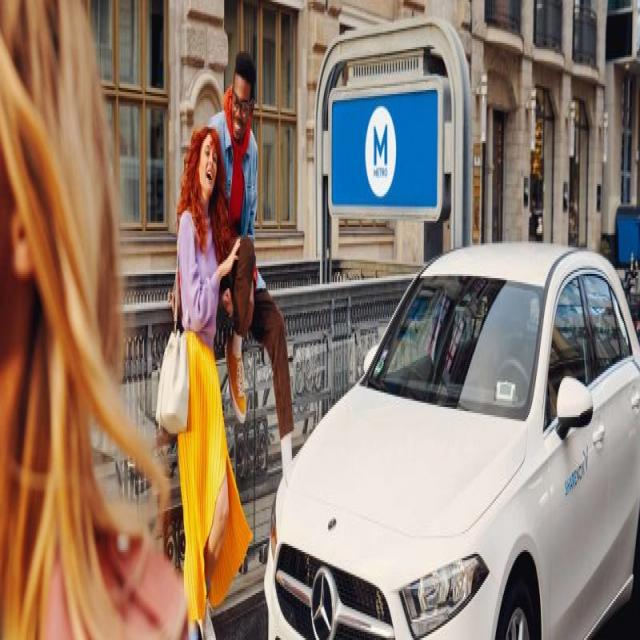car: (266, 243, 640, 640)
person: (172, 133, 238, 630), (218, 45, 298, 407)
